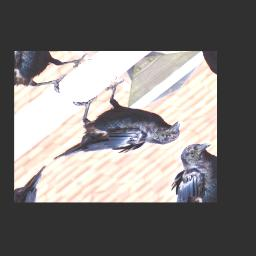Crow: (25, 71, 192, 196)
